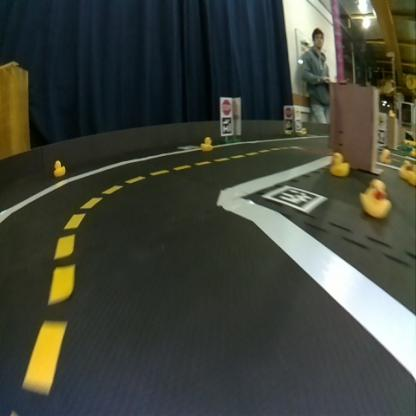Duckie: (359, 178, 389, 216), (330, 152, 350, 176), (399, 160, 410, 180), (53, 160, 64, 174), (202, 137, 212, 150), (381, 148, 389, 162)
QR code: (263, 184, 325, 211), (222, 119, 232, 134)
Stop sign: (220, 97, 232, 114)
